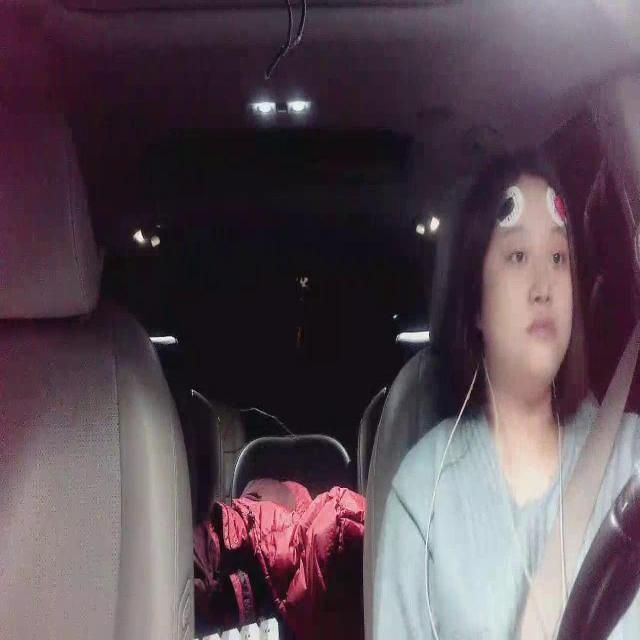Attentive: (472, 146, 587, 386)
